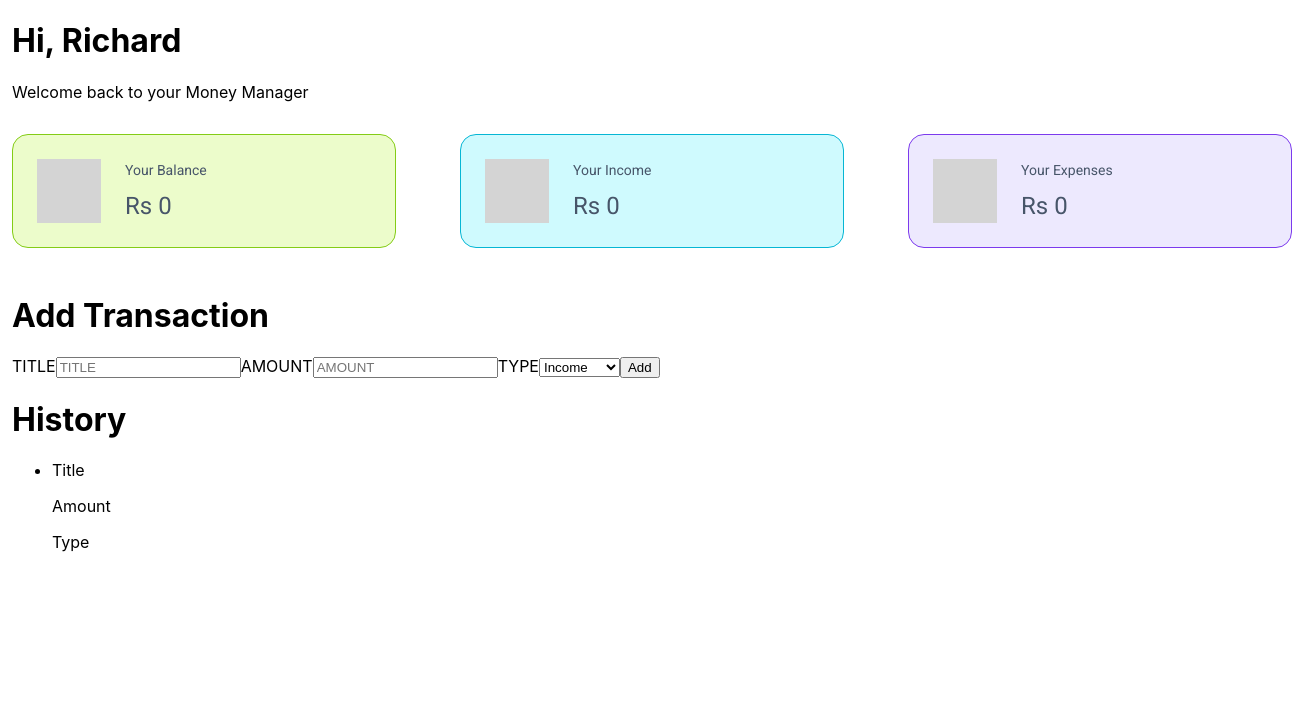
it: :::RJSCPIK4G2_TEST_SUITE_1:::Money Manager tests › :::RJSCPIK4G2_TEST_39:::When a transaction is added, and the HTML button with data-testid as "delete" is clicked, the transaction item should be removed:::5:::
The image size is (1292, 720).
Type "Salary" into the field labelled "TITLE" at (148,368), box left=56, top=357, right=241, bottom=378
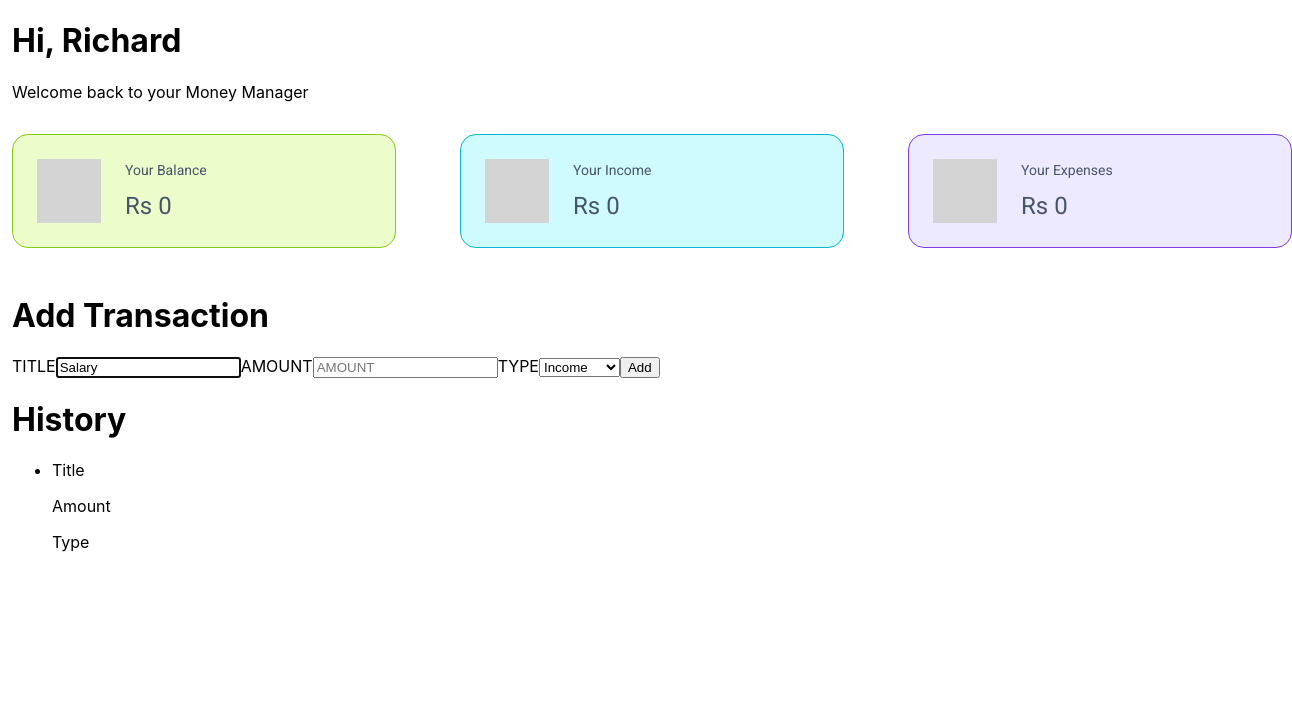
Type "50000" into the field labelled "AMOUNT" at (405,368), box left=313, top=357, right=498, bottom=378
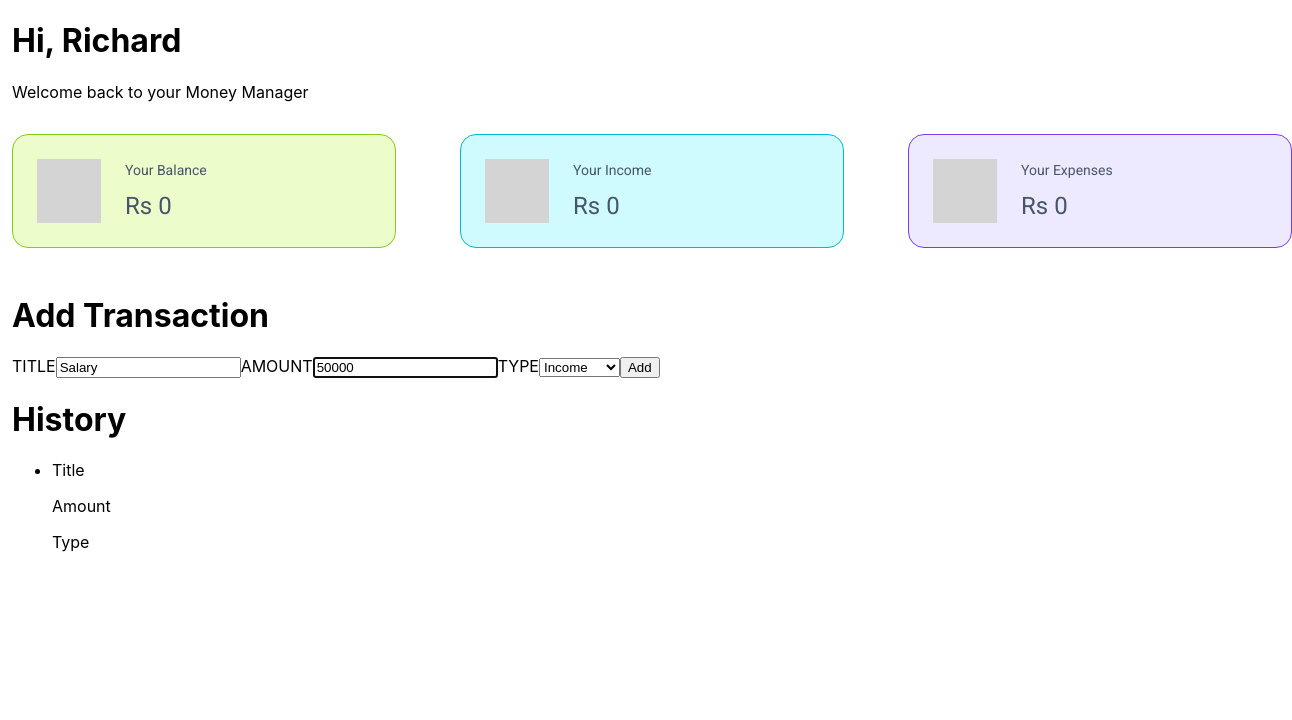
Select "Expenses" in the dropdown at (580,368), box left=539, top=358, right=620, bottom=377
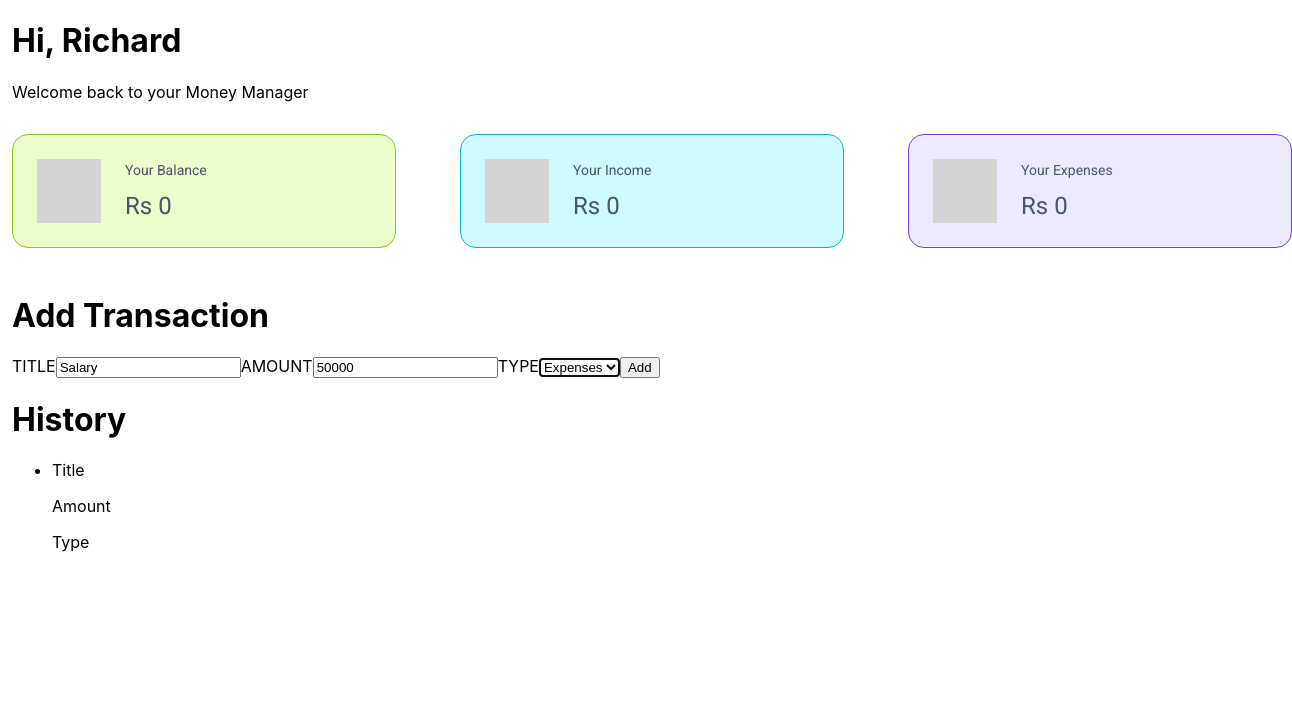
Click the button "Add" at (640,368), box left=620, top=357, right=660, bottom=378
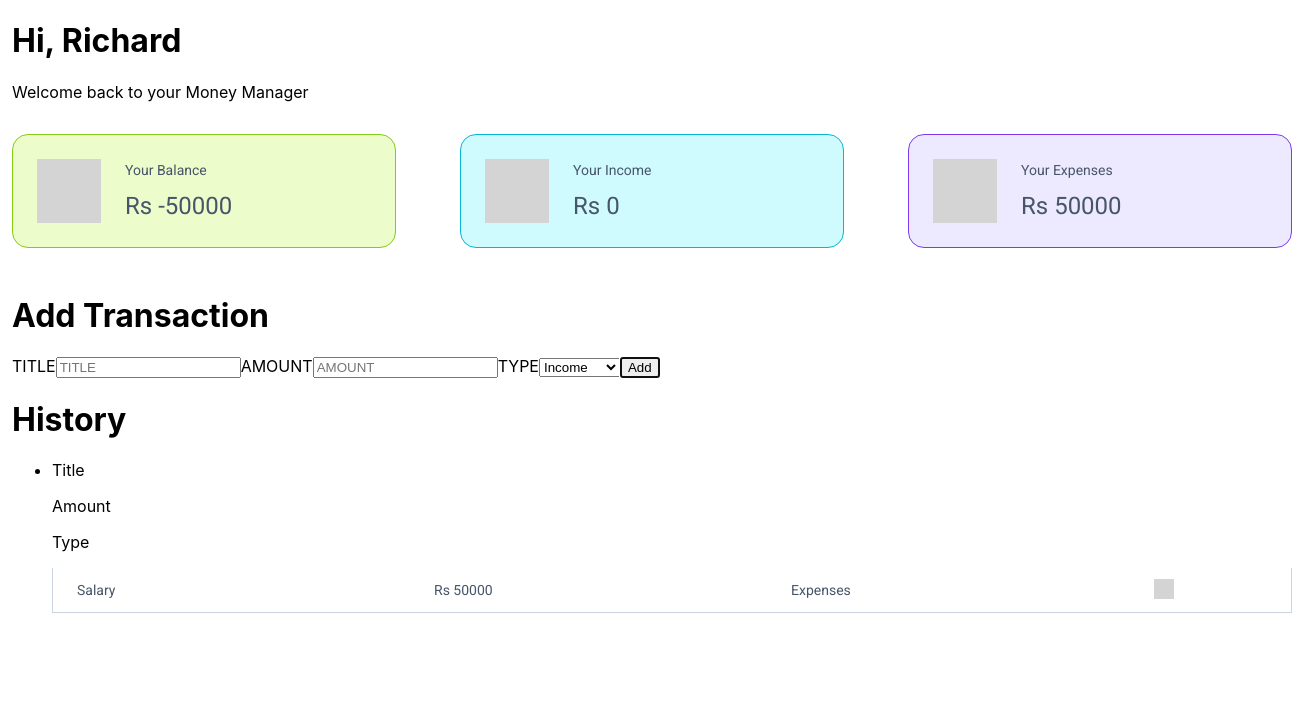
Click the button with test id "delete" at (1176,590), box left=1148, top=568, right=1204, bottom=612
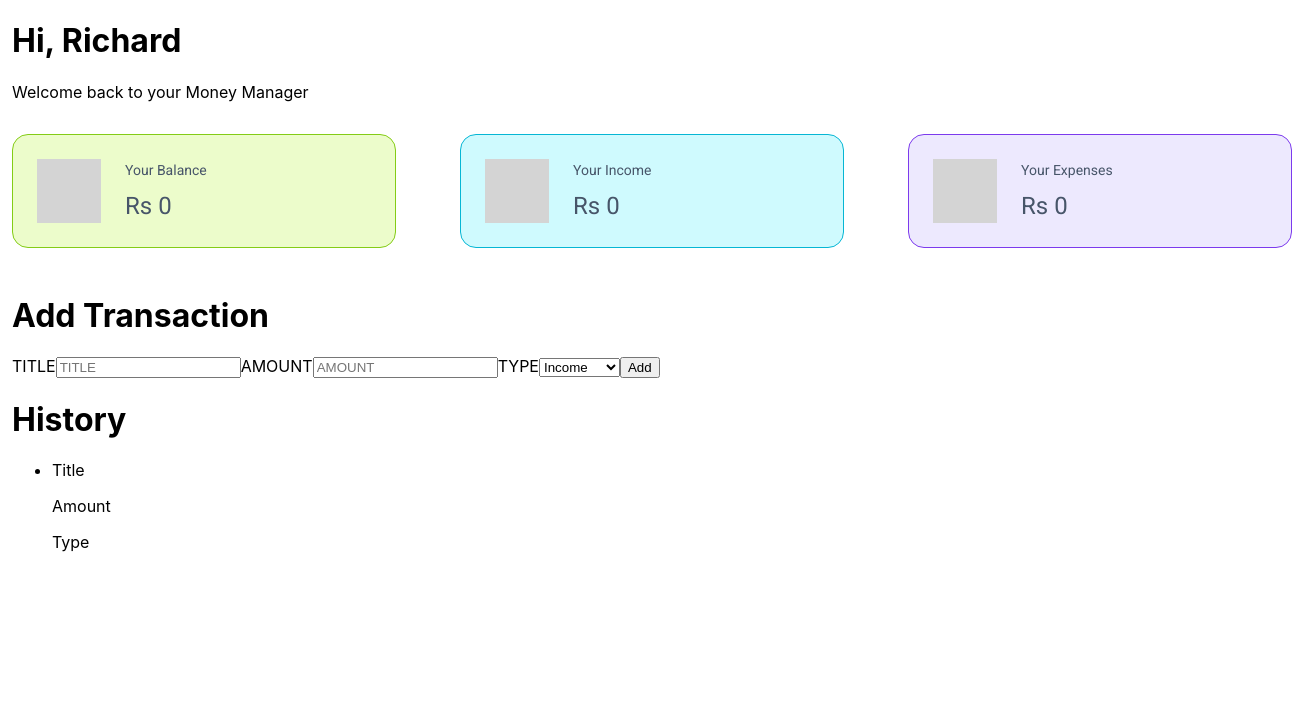
Check: the text "50000" is not shown
Check: the text "Salary" is gone
Check: the picture "delete" is gone
